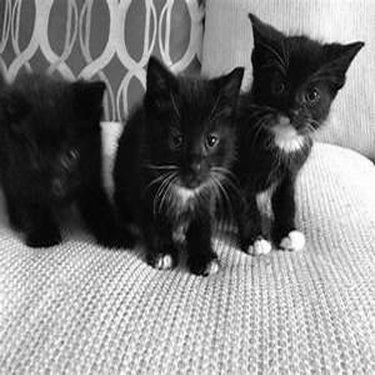cat: (215, 10, 367, 255), (110, 51, 245, 279), (5, 70, 136, 252)
